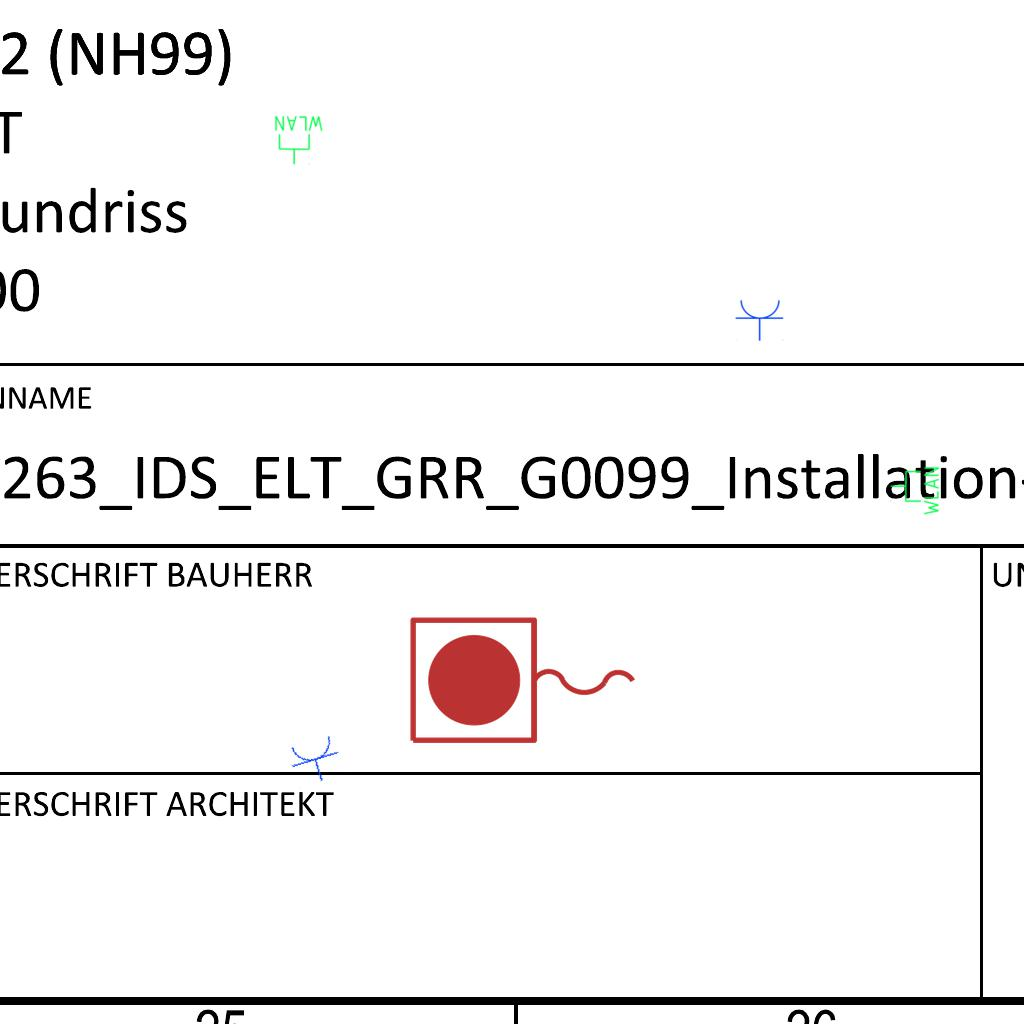Schukosteckdose_einfach: (285, 732, 347, 789), (735, 298, 785, 341)
WLAN: (273, 114, 325, 166), (889, 465, 941, 517)
Zugtaster: (402, 610, 646, 754)
